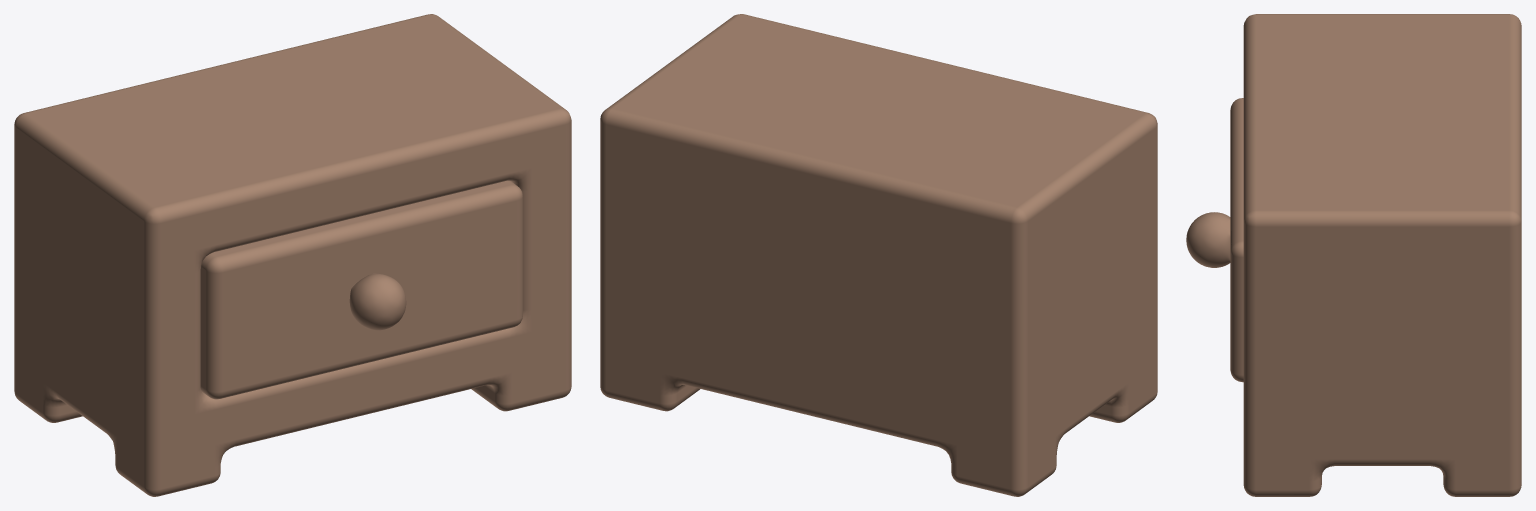
The model's file is closet.glb.
3 renders of one model, left to right at view 1: azimuth 30°, elevation 25°; view 2: azimuth 150°, elevation 25°; view 3: azimuth 270°, elevation 25°, orthographic.
Parts seen in each view (by area): view 1: Closet, Handle; view 2: Closet; view 3: Closet, Handle.
Part boxes in pixels (left/top/right/bottom): Closet: left=14, top=14, right=571, bottom=496; Handle: left=349, top=273, right=406, bottom=330; Closet: left=600, top=14, right=1157, bottom=496; Closet: left=1230, top=14, right=1521, bottom=496; Handle: left=1186, top=212, right=1230, bottom=267.
Size of the model in its own units: 1.95 by 1.26 by 1.34.
